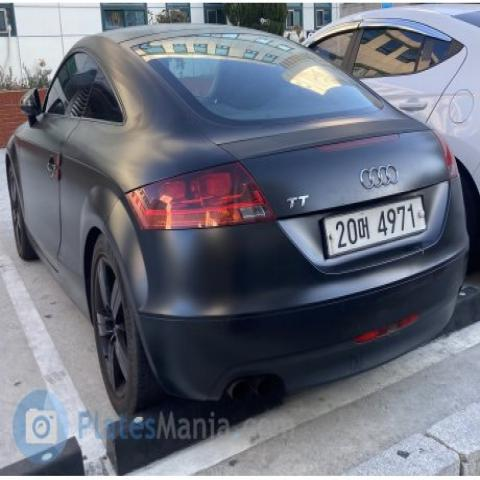LP: (318, 186, 431, 292)
